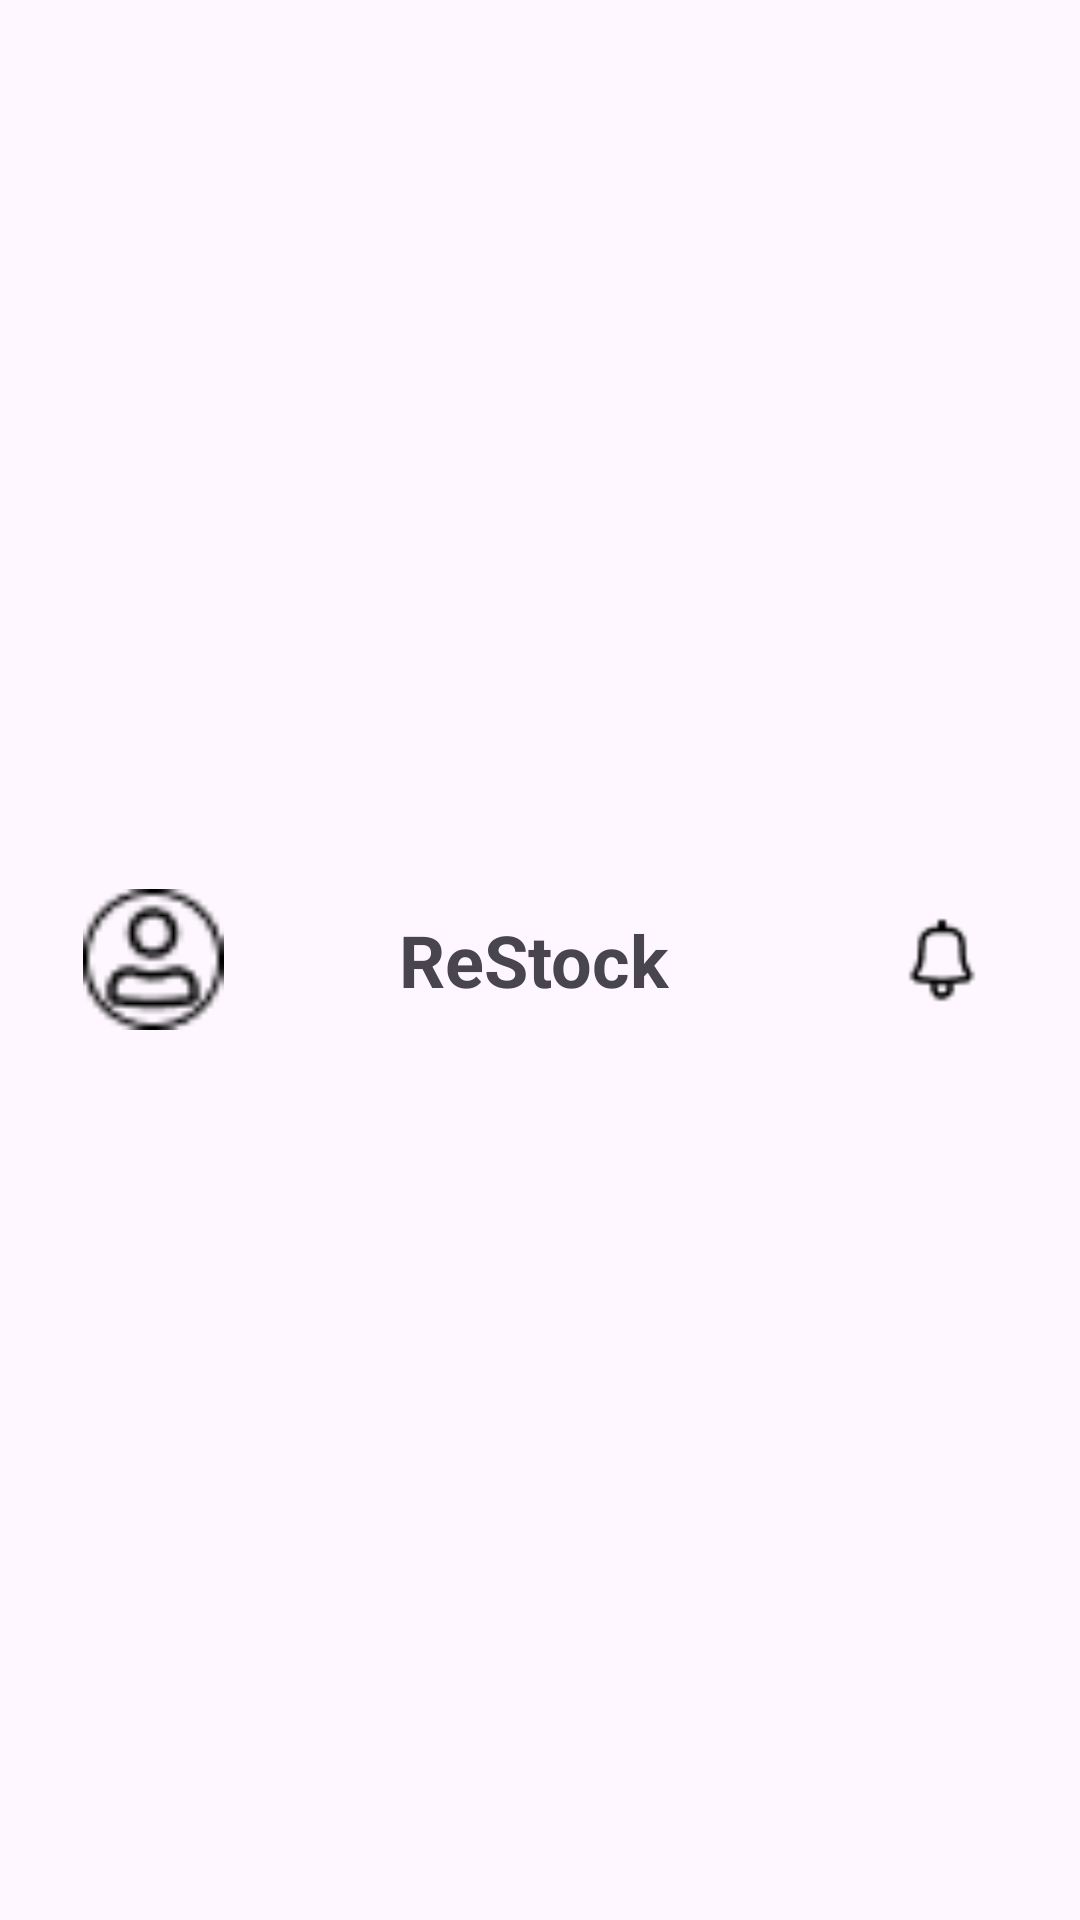

Named icons in this screenshot (1080px×1920px) and their centers, point (x, y):
Notifications: point (942, 959)
Profile Icon: point (153, 959)
